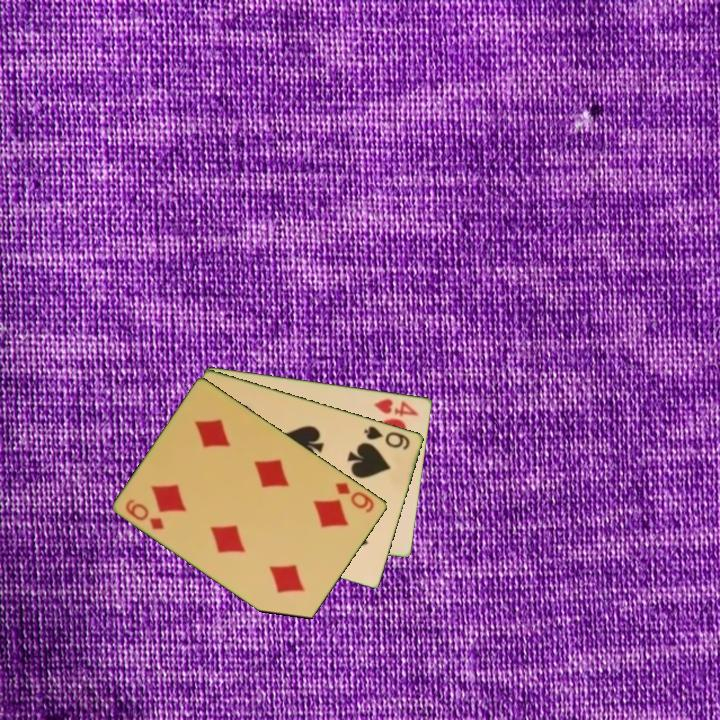4h: (371, 395, 421, 419)
6d: (332, 479, 378, 516), (122, 496, 168, 533)
6s: (361, 422, 413, 453)
